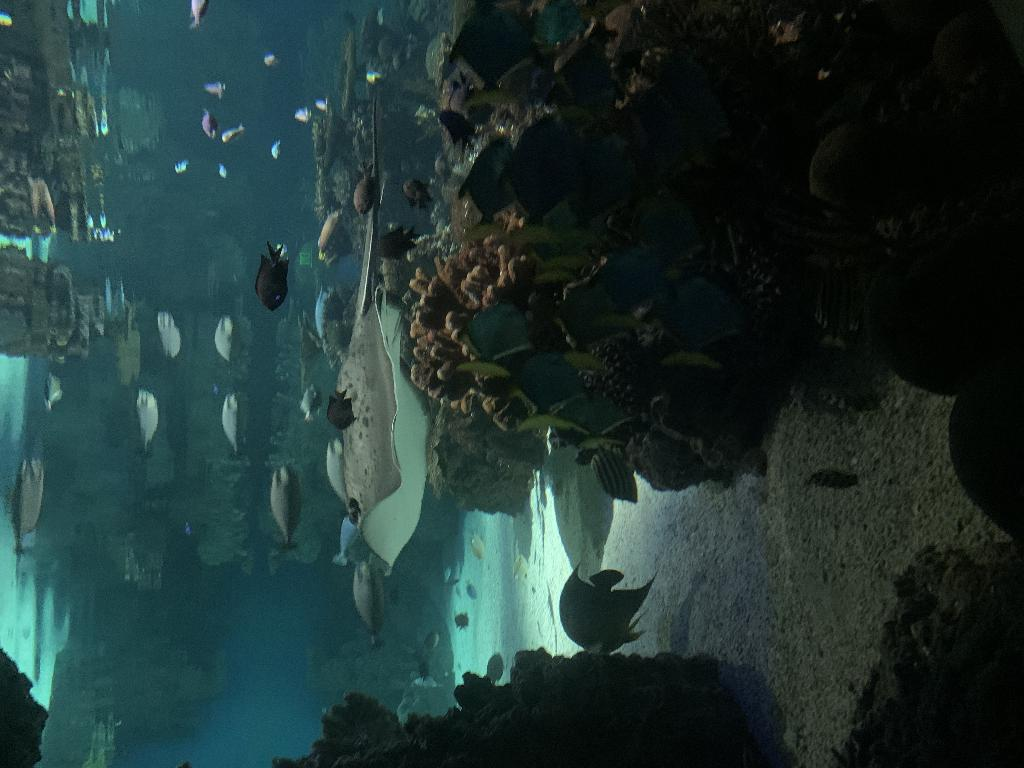fish: (652, 260, 750, 372), (552, 559, 660, 659), (446, 0, 543, 109), (499, 109, 585, 229), (588, 242, 680, 332), (504, 342, 590, 438), (567, 116, 635, 234), (552, 277, 624, 371), (634, 182, 706, 274), (456, 298, 532, 378), (805, 258, 863, 354), (454, 135, 514, 227), (556, 382, 632, 446), (6, 455, 48, 557), (345, 555, 389, 647), (266, 461, 306, 550), (592, 445, 644, 507), (254, 242, 292, 312), (436, 104, 480, 154), (312, 203, 348, 263), (218, 386, 248, 456), (323, 437, 353, 505), (313, 285, 341, 353), (134, 388, 162, 454), (154, 306, 184, 364), (334, 504, 362, 564), (378, 224, 422, 262), (804, 464, 858, 493), (323, 386, 357, 430), (212, 312, 240, 364), (351, 160, 375, 208), (400, 176, 434, 208), (44, 367, 66, 415), (298, 382, 322, 426), (412, 656, 440, 690), (467, 523, 487, 559), (189, 0, 213, 29), (484, 652, 504, 686), (202, 78, 230, 100), (200, 106, 218, 140), (512, 552, 530, 586), (220, 122, 246, 144), (172, 158, 194, 178), (424, 627, 440, 653), (269, 138, 283, 162), (293, 106, 313, 122), (466, 578, 478, 604), (262, 51, 278, 69), (454, 556, 462, 584), (218, 160, 230, 178), (441, 564, 453, 582), (314, 98, 328, 112), (964, 604, 966, 606)
stingray: (329, 286, 397, 528)
